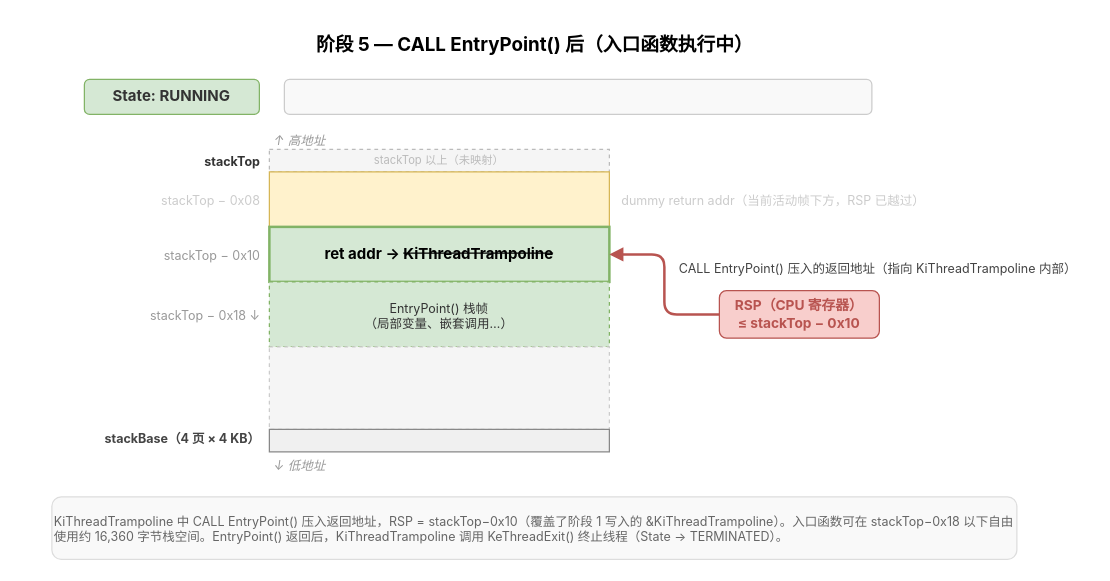
Some shapes in this 1110 by 581 pixel diagram are drawn without their labels. The shapes that lost their labels are listed below. From the top down, each one's centre as x and y in pixels, then its label:
At (577,96): "CPU 正执行：thread->EntryPoint()（入口函数内部，可继续向低地址分配栈帧）".
At (438,199): "0x0000000000000000".
At (438,387): "… 约 16,312 字节剩余可用 …".
